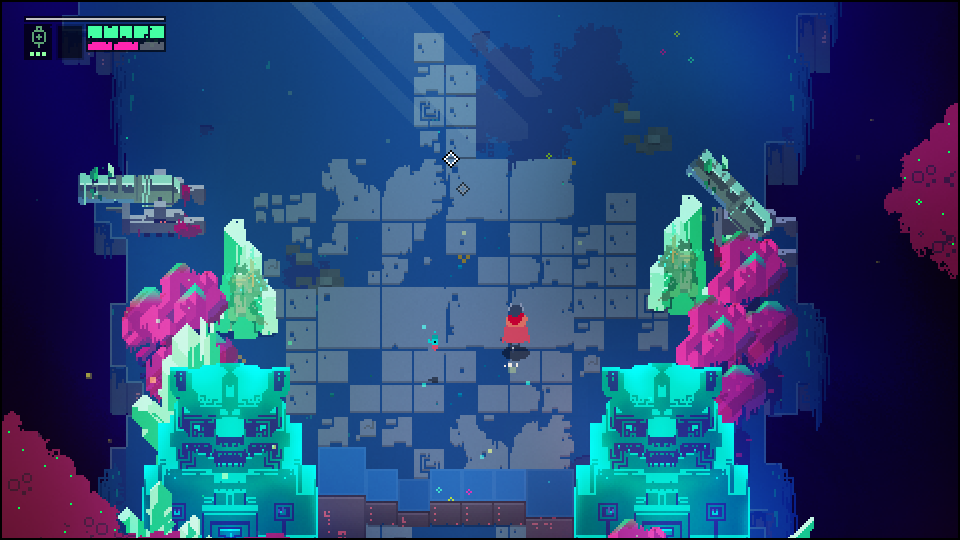player: (499, 303, 535, 355)
